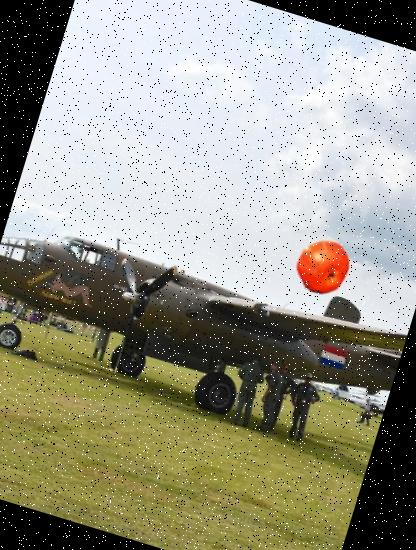Clementine: (286, 231, 358, 303)
